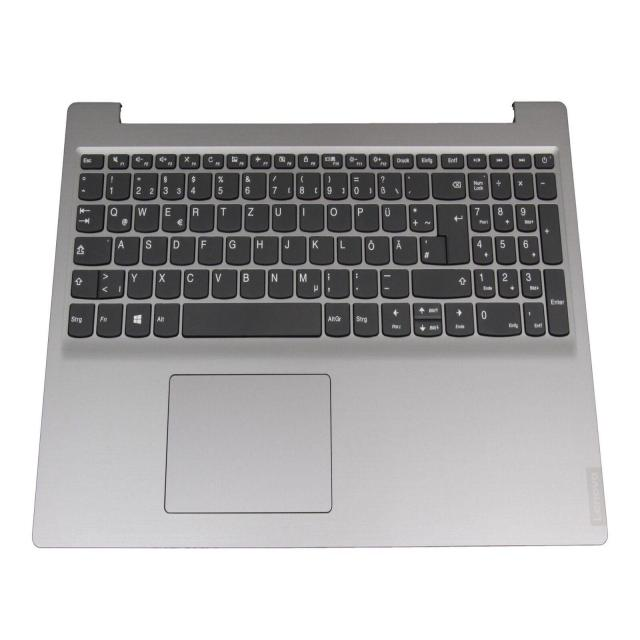0: (348, 169, 374, 198)
1: (105, 170, 130, 198)
2: (131, 170, 157, 199)
3: (158, 170, 184, 199)
4: (186, 170, 211, 198)
5: (213, 170, 238, 198)
6: (241, 170, 266, 198)
7: (268, 169, 292, 198)
8: (295, 169, 320, 198)
9: (321, 169, 347, 198)
a: (113, 233, 138, 264)
accent: (403, 170, 428, 199)
ae: (391, 234, 417, 264)
alt-left: (152, 300, 178, 335)
altgr-right: (323, 300, 350, 335)
b: (238, 266, 264, 297)
c: (182, 266, 208, 297)
caret: (77, 170, 102, 198)
comma: (322, 266, 349, 297)
d: (168, 233, 194, 264)
del: (430, 170, 465, 199)
e: (160, 201, 186, 230)
enter: (436, 201, 468, 263)
f: (196, 234, 222, 264)
g: (224, 234, 250, 264)
h: (252, 233, 277, 263)
hash: (418, 233, 444, 262)
i: (298, 201, 323, 230)
j: (280, 233, 305, 263)
k: (308, 233, 333, 263)
keyboard: (60, 142, 576, 347)
l: (335, 233, 361, 263)
less: (97, 266, 124, 296)
m: (294, 266, 320, 297)
minus: (378, 267, 408, 297)
n: (266, 266, 292, 297)
o: (326, 202, 351, 231)
oe: (363, 233, 388, 263)
p: (353, 202, 378, 231)
plus: (407, 201, 433, 230)
point: (350, 267, 377, 297)
q: (105, 201, 131, 231)
r: (188, 202, 213, 231)
s: (141, 234, 167, 264)
shift-left: (69, 267, 96, 297)
shift-lock: (72, 234, 111, 264)
shift-right: (410, 265, 470, 296)
space: (180, 300, 321, 335)
ss: (376, 170, 401, 199)
strg-left: (66, 300, 93, 335)
strg-right: (351, 300, 378, 335)
t: (216, 201, 240, 230)
tab: (74, 201, 103, 231)
u: (271, 202, 296, 231)
ue: (381, 201, 406, 231)
v: (210, 266, 236, 297)
w: (133, 202, 158, 231)
x: (154, 267, 180, 297)
y: (126, 267, 152, 297)
z: (243, 202, 268, 231)
